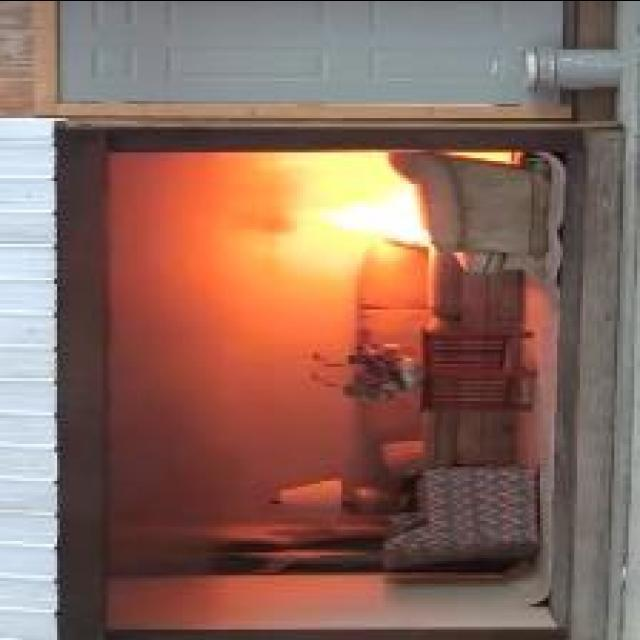Fire: (319, 182, 432, 248)
